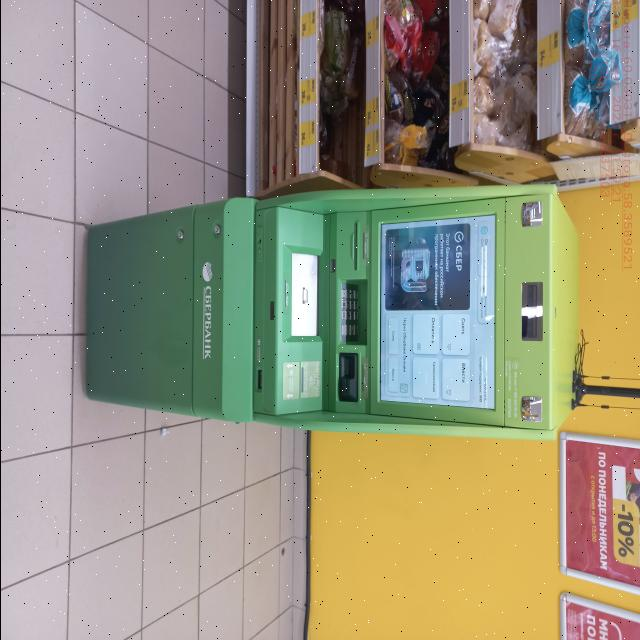bank: (82, 186, 574, 437)
